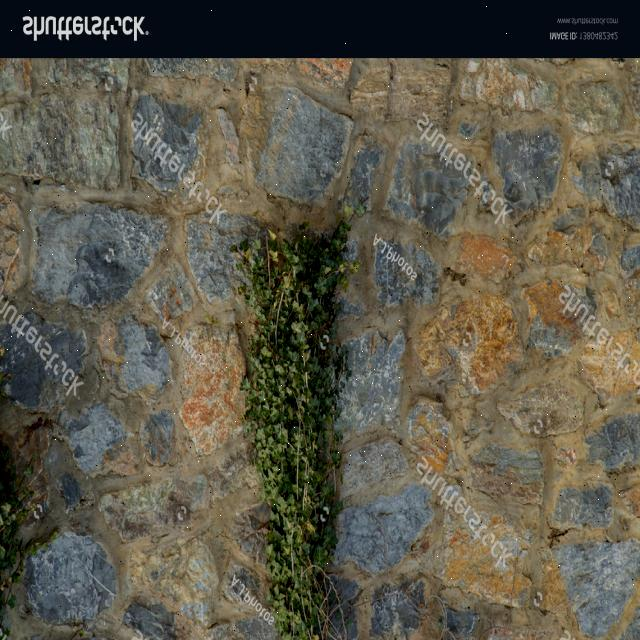vegetation: (228, 207, 362, 639)
